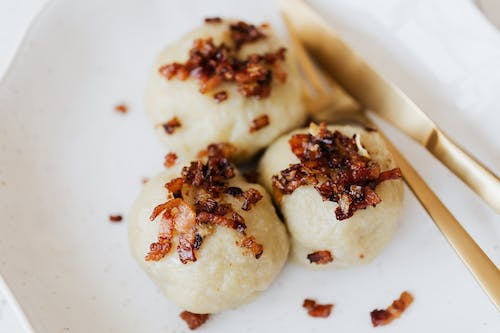knife: (280, 0, 500, 213)
